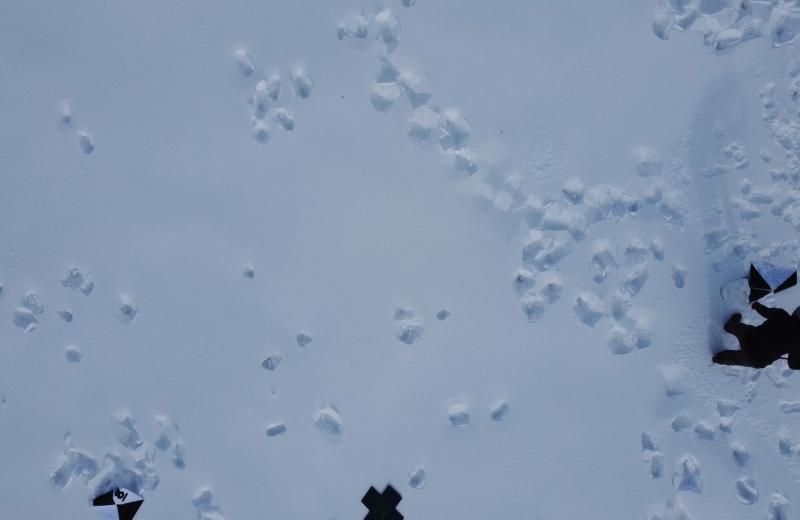Cross: (362, 481, 402, 520)
